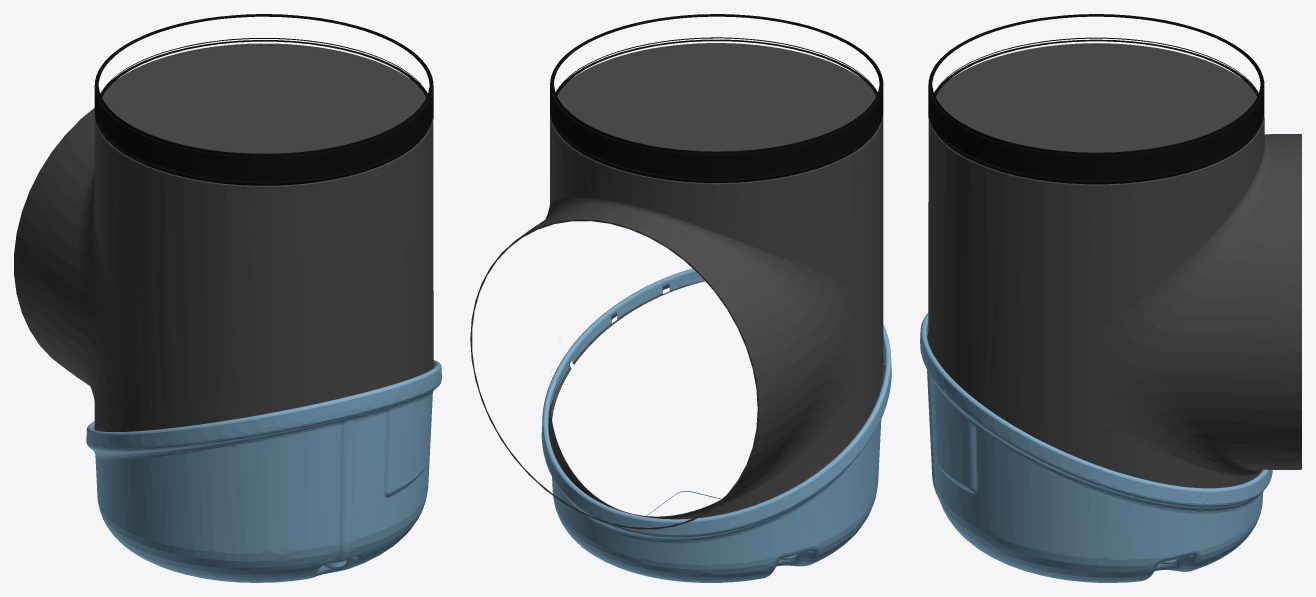
File: wrist2.glb
The picture shows the model from 3 angles, left to right: view 1: azimuth 30°, elevation 25°; view 2: azimuth 150°, elevation 25°; view 3: azimuth 270°, elevation 25°; orthographic projection.
Parts seen in each view (by area): view 1: eSeries_UR5e_049, eSeries_UR5e_029, eSeries_UR5e_002; view 2: eSeries_UR5e_049, eSeries_UR5e_029, eSeries_UR5e_002; view 3: eSeries_UR5e_049, eSeries_UR5e_029, eSeries_UR5e_002.
Part boxes in pixels (bbox=[...]): eSeries_UR5e_049: bbox=[14, 43, 434, 431]; eSeries_UR5e_029: bbox=[86, 360, 441, 582]; eSeries_UR5e_002: bbox=[94, 14, 433, 185]; eSeries_UR5e_049: bbox=[470, 43, 884, 529]; eSeries_UR5e_029: bbox=[541, 268, 891, 582]; eSeries_UR5e_002: bbox=[550, 14, 883, 182]; eSeries_UR5e_049: bbox=[927, 43, 1301, 488]; eSeries_UR5e_029: bbox=[920, 313, 1272, 582]; eSeries_UR5e_002: bbox=[928, 14, 1264, 184].
Bounding box in the file's own units: 0.0787 × 0.1099 × 0.0852.
